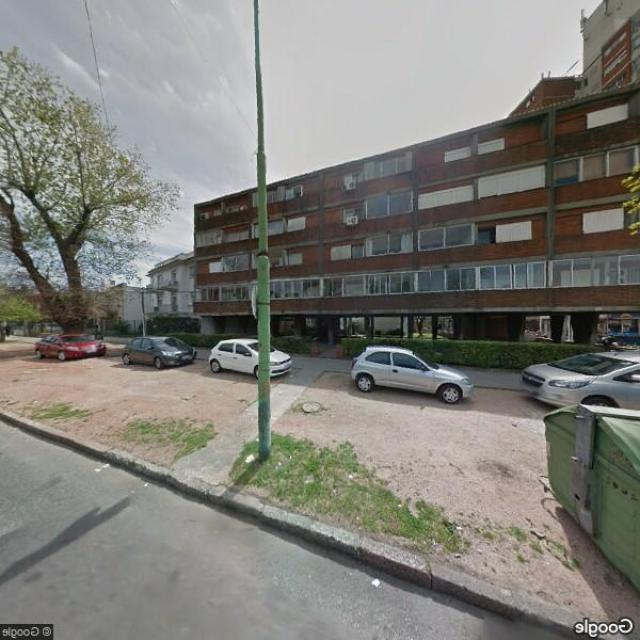garbage container: (527, 394, 639, 602)
